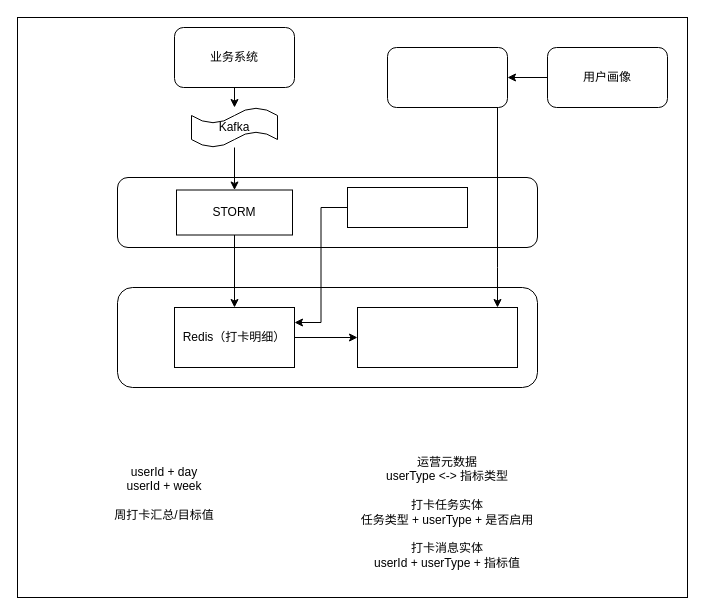
Image size: 705x615. Some labels were removed from this diagram. The box of each missing label's shape, as (x1, y1, x2, y2) in pixels:
MySQL（聚合数据+指标元数据）: (356, 306, 518, 368)
XXL-JOB: (346, 186, 468, 228)
运营系统: (386, 46, 508, 108)
